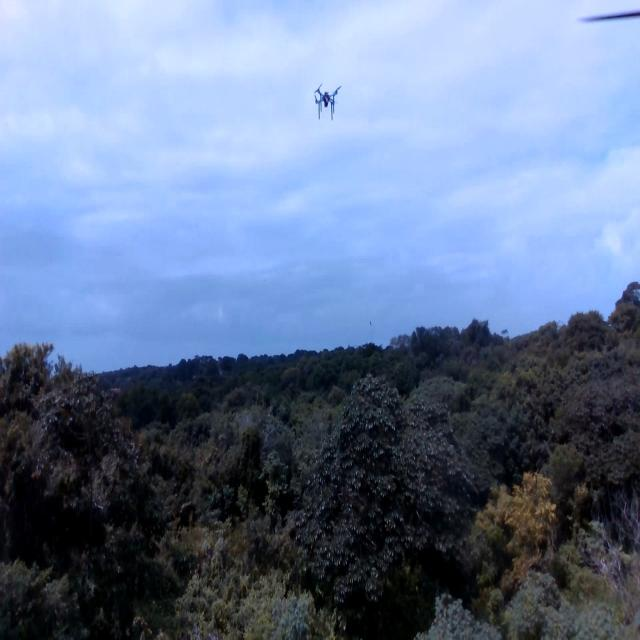-uav-: (303, 71, 351, 138)
